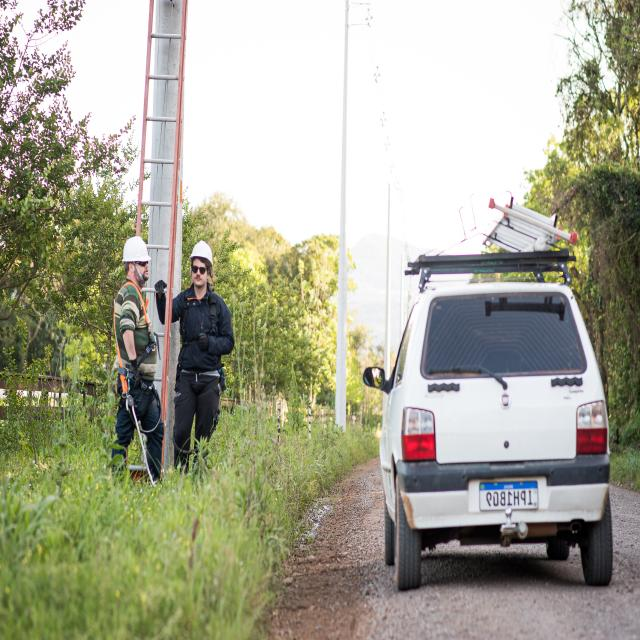capacete: (121, 234, 152, 264), (190, 240, 214, 265)
corda de vida: (171, 285, 227, 405)
luva: (128, 355, 144, 389)
